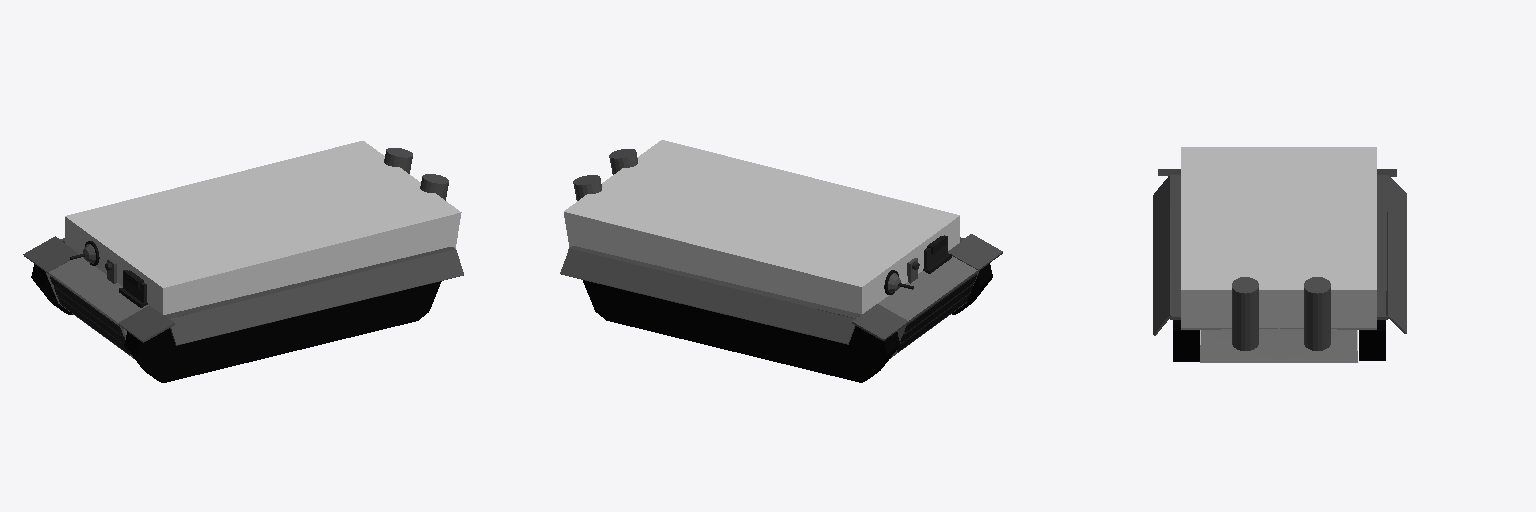
The model's file is tankbody03.obj.
The picture shows the model from 3 angles: view 1: azimuth 30°, elevation 25°; view 2: azimuth 150°, elevation 25°; view 3: azimuth 270°, elevation 25°; orthographic projection.
Visible parts, largest first — view 1: Box001, Box009, Box011, Box012, Box002, Box013, Box014; view 2: Box001, Box006, Box010, Box012, Box008, Box014, Box013; view 3: Box001, Box010, Box011, Cylinder008, Cylinder009, Box008, Box002, Box009, Box006.
Boxes of the visible parts, x1=… form: Box001: x1=65, y1=141, x2=461, y2=314; Box009: x1=124, y1=281, x2=441, y2=382; Box011: x1=170, y1=249, x2=463, y2=345; Box012: x1=46, y1=257, x2=148, y2=358; Box002: x1=165, y1=247, x2=454, y2=318; Box013: x1=118, y1=305, x2=174, y2=342; Box014: x1=23, y1=236, x2=79, y2=273; Box001: x1=564, y1=140, x2=959, y2=313; Box006: x1=583, y1=280, x2=899, y2=382; Box010: x1=560, y1=248, x2=854, y2=344; Box012: x1=878, y1=256, x2=978, y2=358; Box008: x1=568, y1=246, x2=860, y2=318; Box014: x1=852, y1=304, x2=908, y2=340; Box013: x1=948, y1=234, x2=1002, y2=271; Box001: x1=1181, y1=147, x2=1376, y2=362; Box010: x1=1386, y1=176, x2=1406, y2=333; Box011: x1=1153, y1=176, x2=1171, y2=335; Cylinder008: x1=1232, y1=277, x2=1258, y2=350; Cylinder009: x1=1304, y1=277, x2=1330, y2=350; Box008: x1=1377, y1=175, x2=1387, y2=319; Box002: x1=1170, y1=175, x2=1180, y2=319; Box009: x1=1173, y1=320, x2=1199, y2=361; Box006: x1=1359, y1=320, x2=1385, y2=360.
Size of the model in its own units: 72.65 by 20.98 by 45.69.